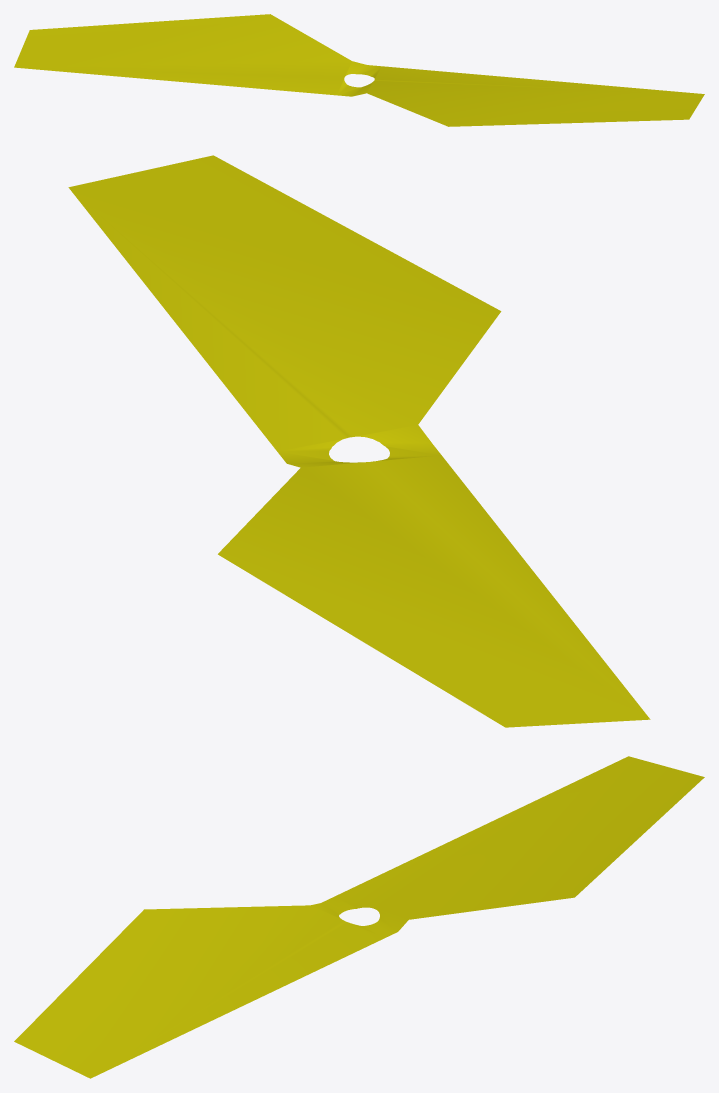
The model's file is Wing 01.fbx.
The picture shows the model from 3 angles, top to bottom: view 1: azimuth 30°, elevation 25°; view 2: azimuth 150°, elevation 25°; view 3: azimuth 270°, elevation 25°; orthographic projection. The views are drawn at different scales.
Visible parts, largest first — view 1: Wing_01; view 2: Wing_01; view 3: Wing_01.
Part boxes in pixels (box(x1,y1,x2,y2)): Wing_01: box(14, 14, 704, 126); Wing_01: box(68, 155, 650, 727); Wing_01: box(14, 756, 704, 1078).
Bounding box in the file's own units: 74 × 1.49 × 67.01.
